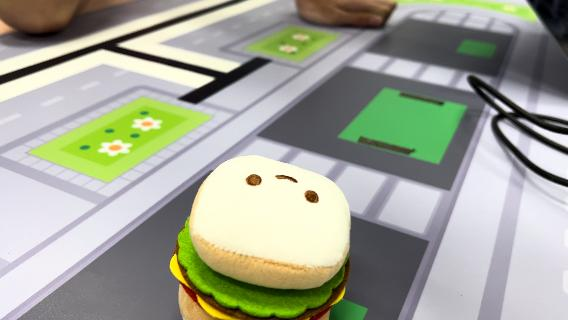sandwich: (169, 152, 355, 318)
